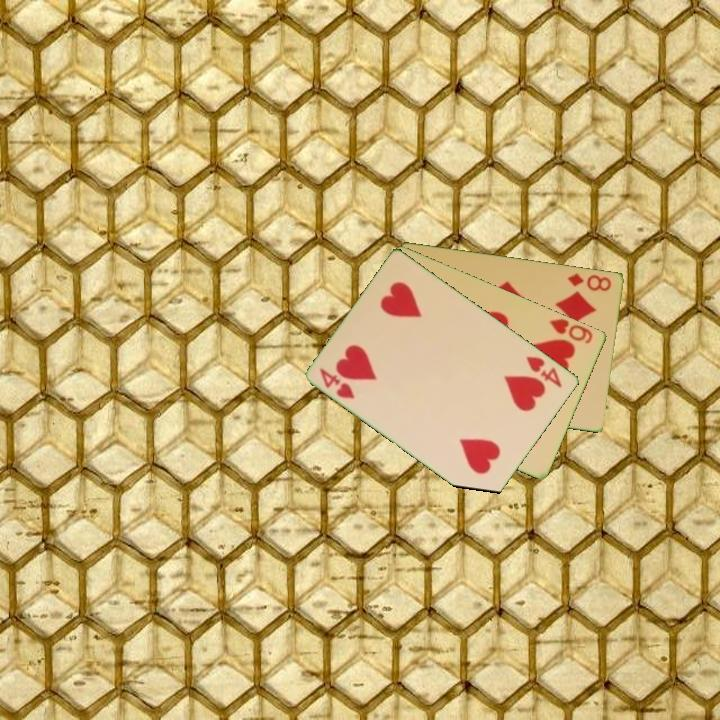4h: (522, 352, 565, 390), (316, 364, 358, 402)
6h: (546, 315, 596, 347)
8d: (564, 269, 614, 294)
